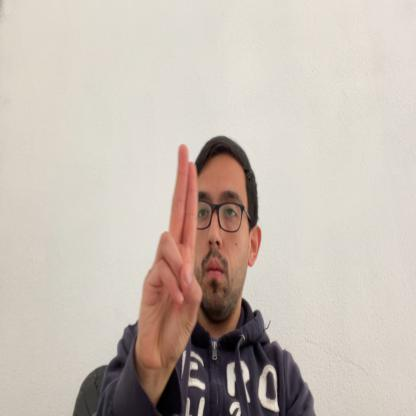U: (134, 144, 204, 367)
